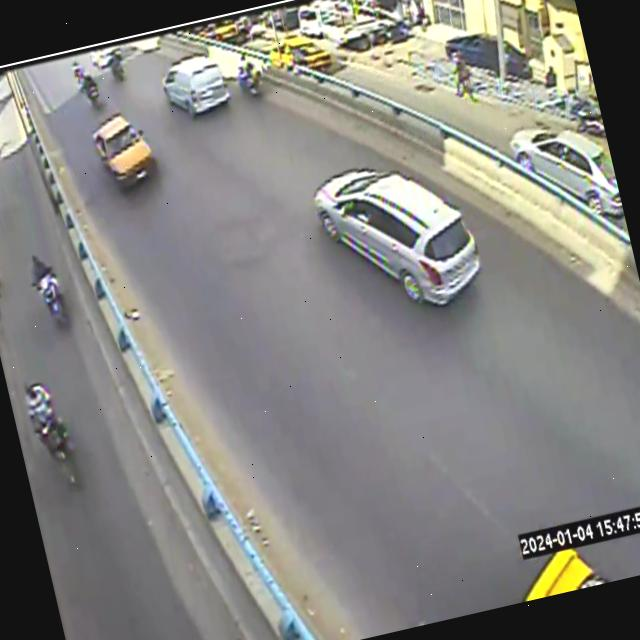car: (510, 127, 624, 217), (510, 128, 623, 217), (510, 128, 623, 215), (81, 107, 163, 209)
